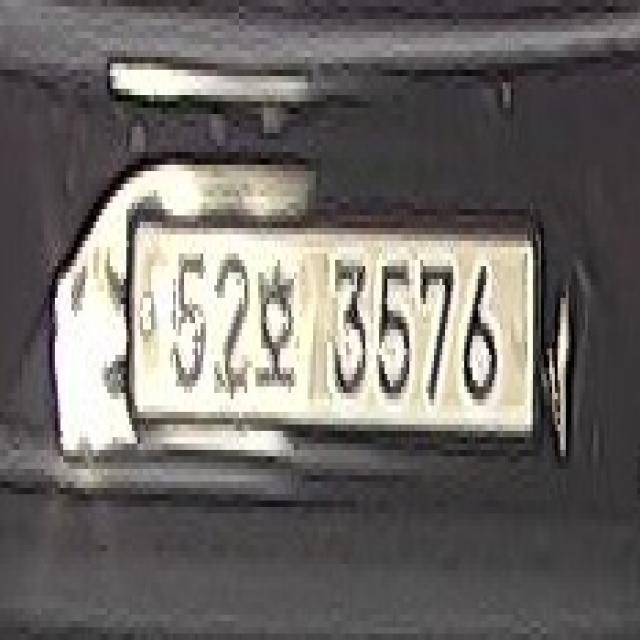2: (213, 248, 249, 404)
3: (330, 250, 372, 400)
5: (376, 254, 414, 403), (172, 244, 208, 396)
6: (458, 260, 502, 406)
7: (416, 255, 456, 412)
ho: (254, 249, 294, 412)
license_plate: (120, 196, 549, 457)
